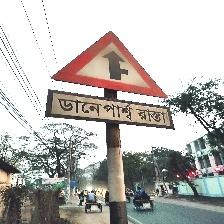Side-road-right: (47, 31, 173, 132)
